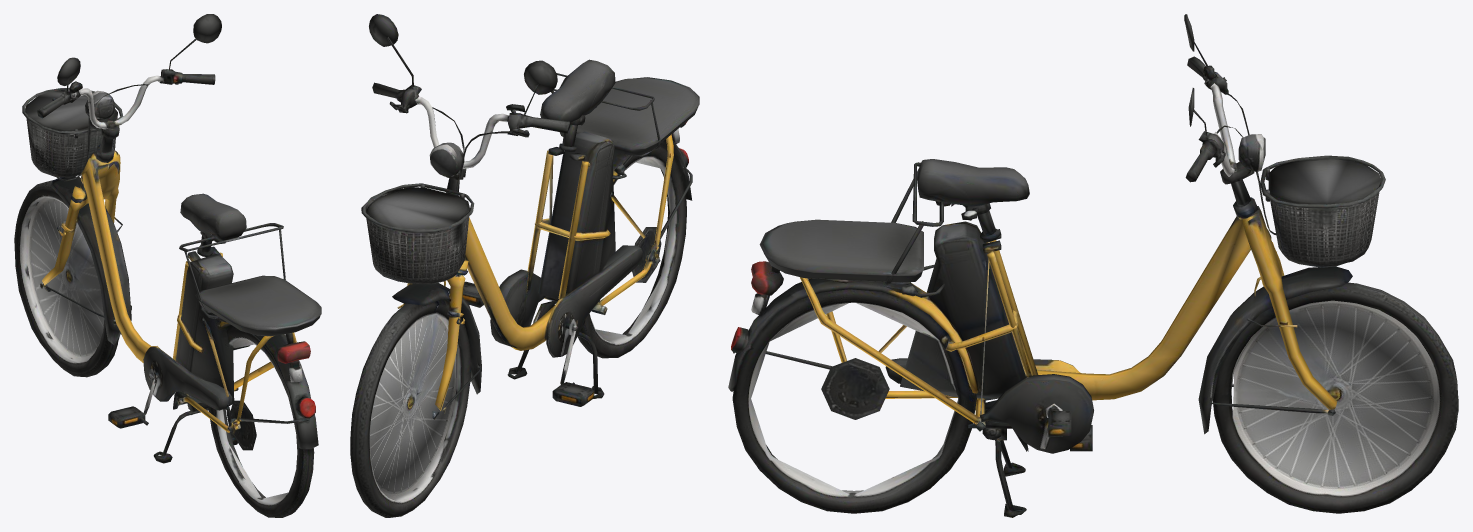
Rendered from vehicle-ebike-yellow.glb.
The picture shows the model from 3 angles, left to right: view 1: azimuth 30°, elevation 25°; view 2: azimuth 150°, elevation 25°; view 3: azimuth 270°, elevation 25°; orthographic projection. The views are drawn at different scales.
Visible parts, largest first — view 1: tripo_node_3cc7e361-3b0f-4ed4-9d97-3d6dc8d6ba71; view 2: tripo_node_3cc7e361-3b0f-4ed4-9d97-3d6dc8d6ba71; view 3: tripo_node_3cc7e361-3b0f-4ed4-9d97-3d6dc8d6ba71.
Part boxes in pixels (left/top/right/bottom): tripo_node_3cc7e361-3b0f-4ed4-9d97-3d6dc8d6ba71: left=14, top=14, right=321, bottom=517; tripo_node_3cc7e361-3b0f-4ed4-9d97-3d6dc8d6ba71: left=350, top=14, right=699, bottom=517; tripo_node_3cc7e361-3b0f-4ed4-9d97-3d6dc8d6ba71: left=728, top=14, right=1458, bottom=517.
Size of the model in its own units: 0.3574 by 0.7129 by 0.998.
Materials: 1 (1 with a texture image).
